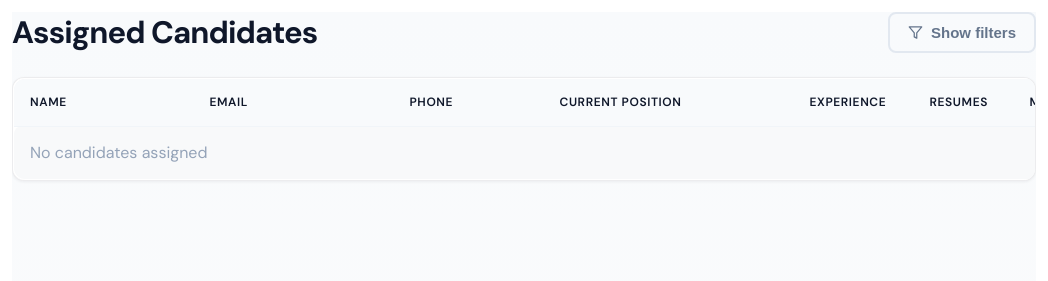
Scenario: Candidates Filter Functionality › should render filter panel when show filters is clicked
Click the button "Show filters" at [962, 32], box [888, 12, 1036, 53]
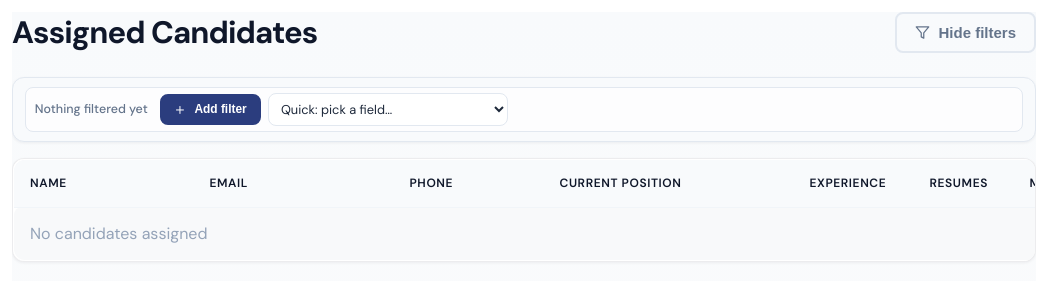
Expected: the text "Nothing filtered yet" is shown, [35, 100, 148, 119]
Expected: the button "Add filter" is shown, [160, 94, 261, 125]
